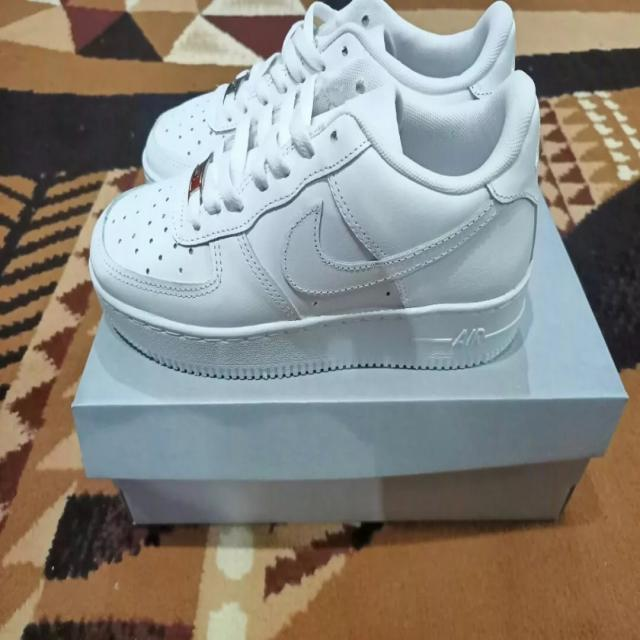nike fake air force: (61, 2, 554, 386)
